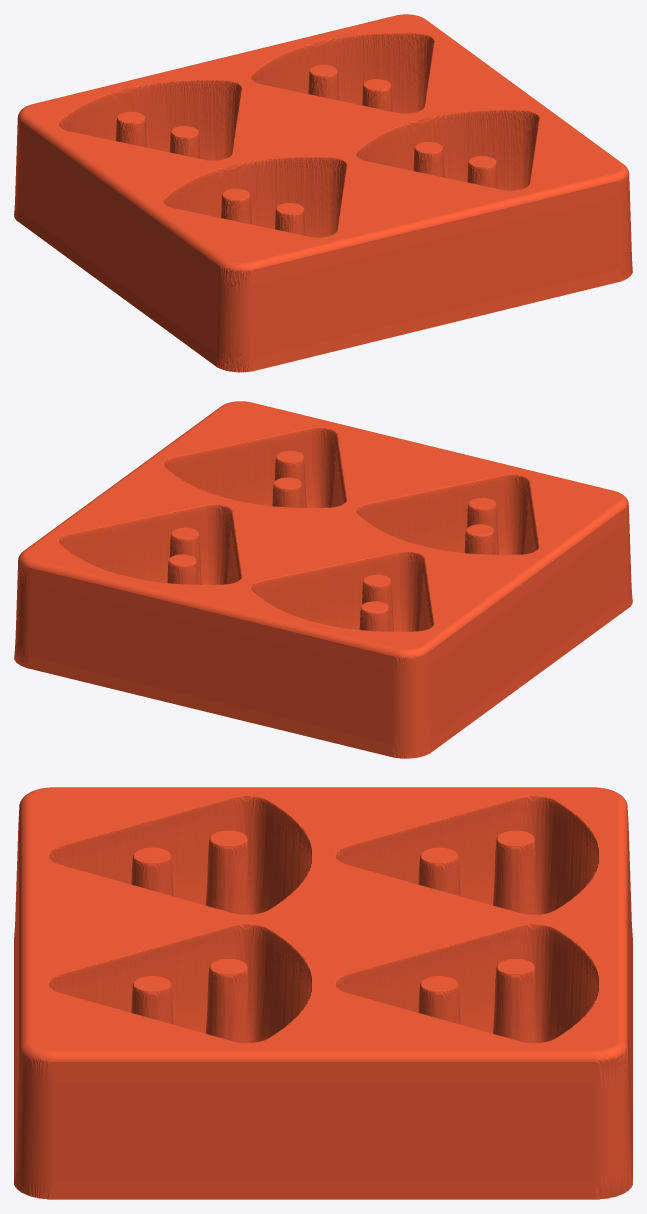
Rendered from mold.glb.
3 views of the same model, one above another, from view 1: azimuth 30°, elevation 25°; view 2: azimuth 150°, elevation 25°; view 3: azimuth 270°, elevation 25° (orthographic). The views are drawn at different scales.
Visible parts, largest first — view 1: geometry_0; view 2: geometry_0; view 3: geometry_0.
Boxes of the visible parts, x1,y1,x2,y2 form: geometry_0: [14, 14, 632, 372]; geometry_0: [14, 401, 632, 758]; geometry_0: [14, 787, 632, 1199].
Size of the model in its own units: 0.1493 by 0.036 by 0.1418.
